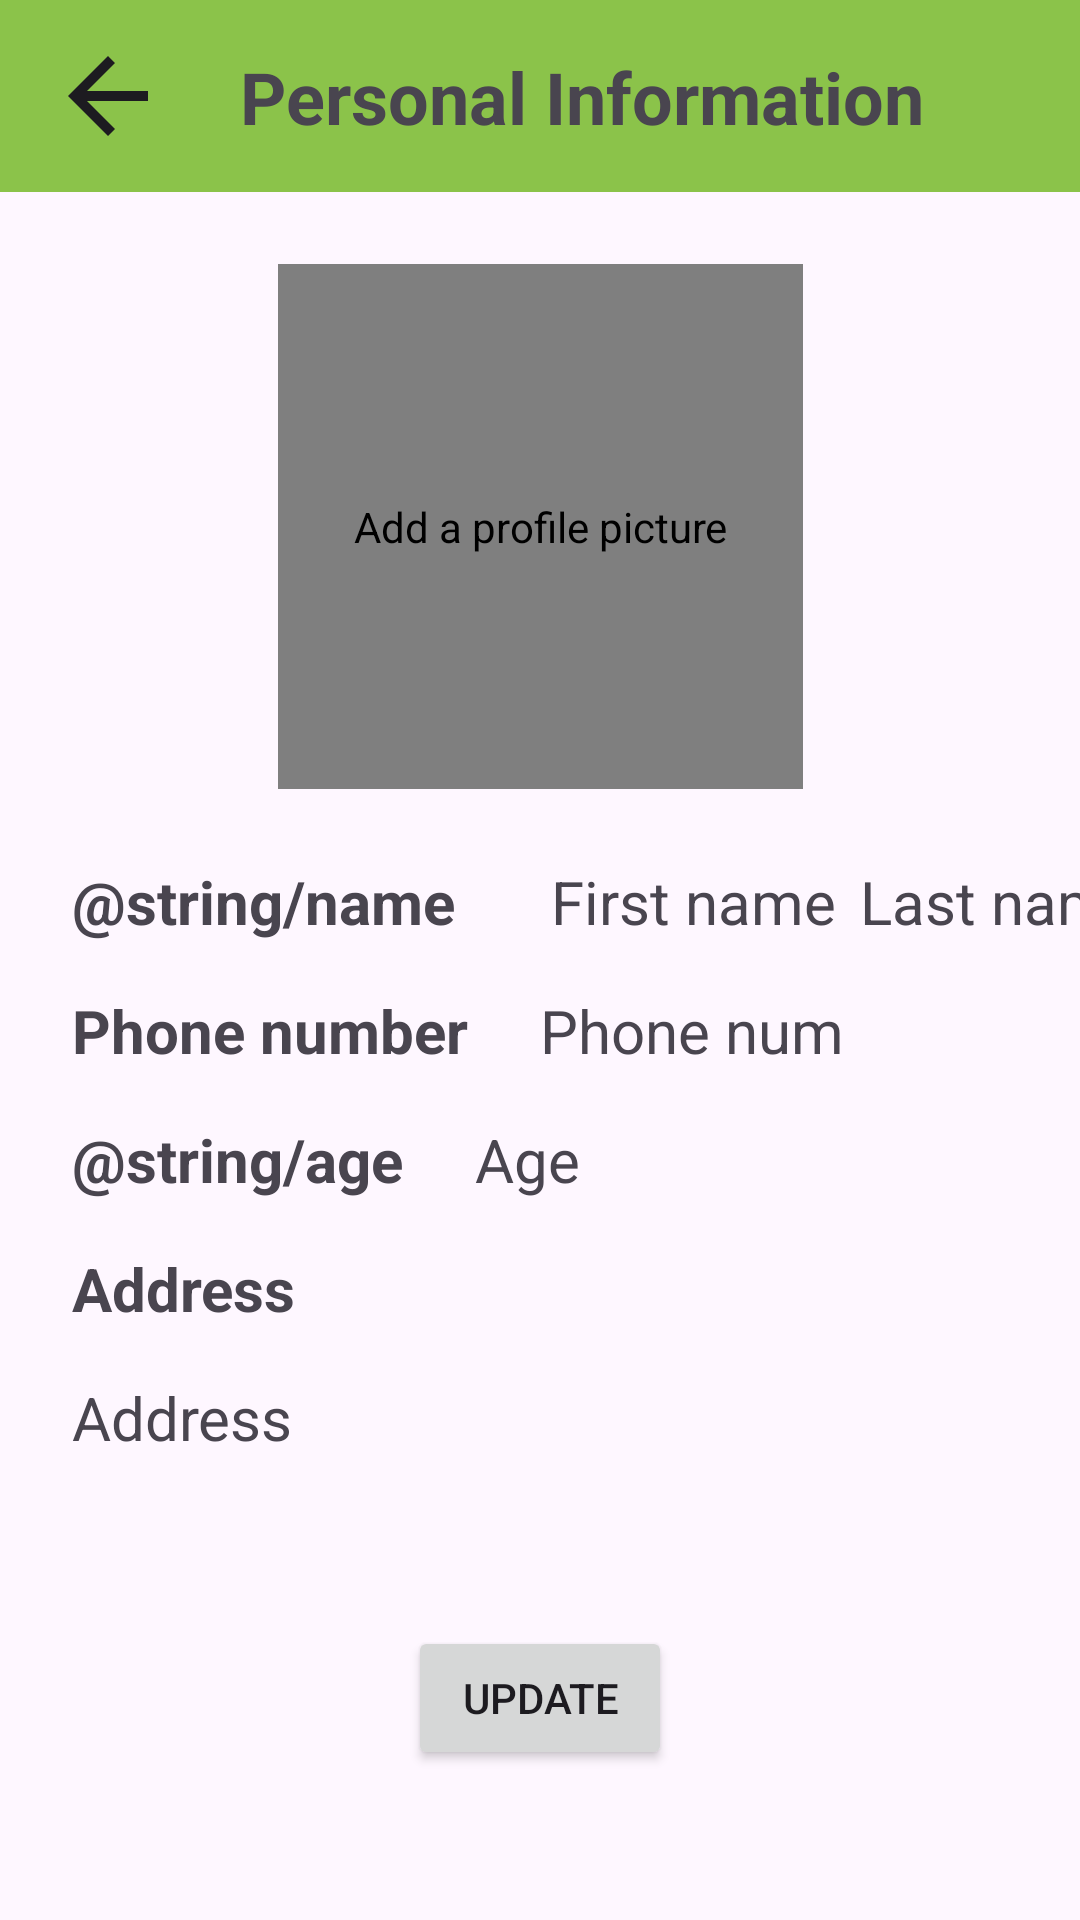

Icons on this 1080px×1920px Android screen, each with its box as {"left": x1, "top": y1, "right": x2, "bottom": y2}:
Back to previous activity: {"left": 68, "top": 56, "right": 148, "bottom": 136}
